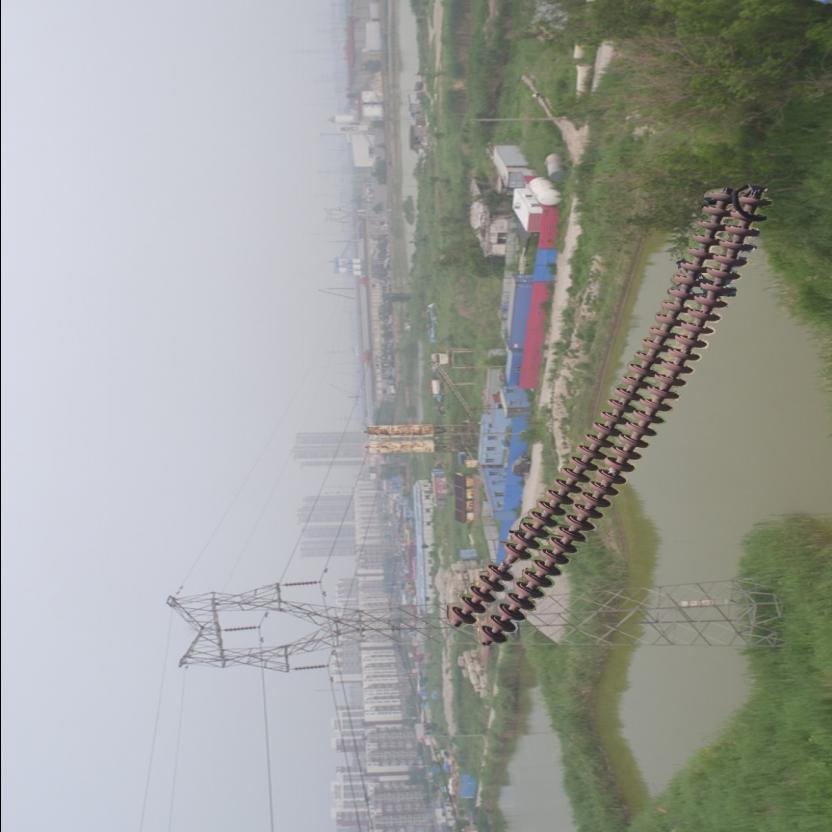defect: (480, 540, 530, 584)
